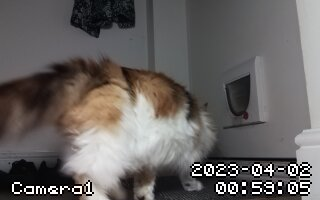clara: (3, 58, 216, 194)
